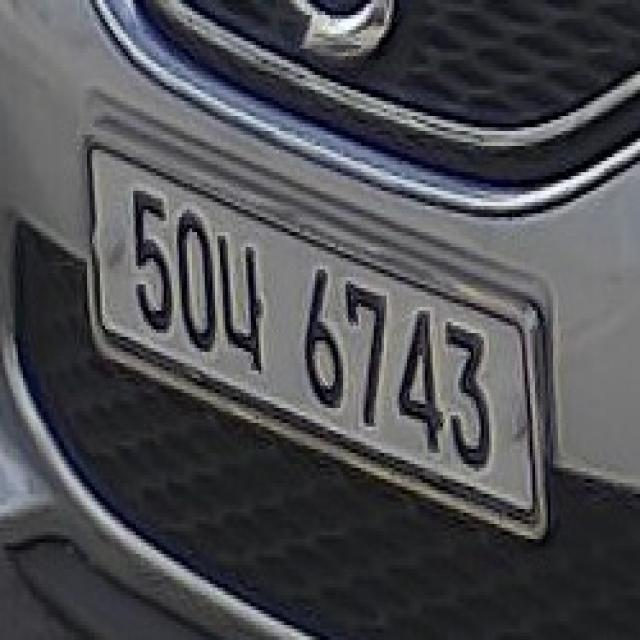0: (173, 202, 217, 356)
3: (444, 318, 495, 478)
4: (397, 305, 442, 463)
5: (129, 181, 173, 341)
6: (296, 256, 344, 420)
7: (346, 280, 389, 436)
license_plate: (83, 137, 544, 542)
na: (218, 232, 268, 382)
